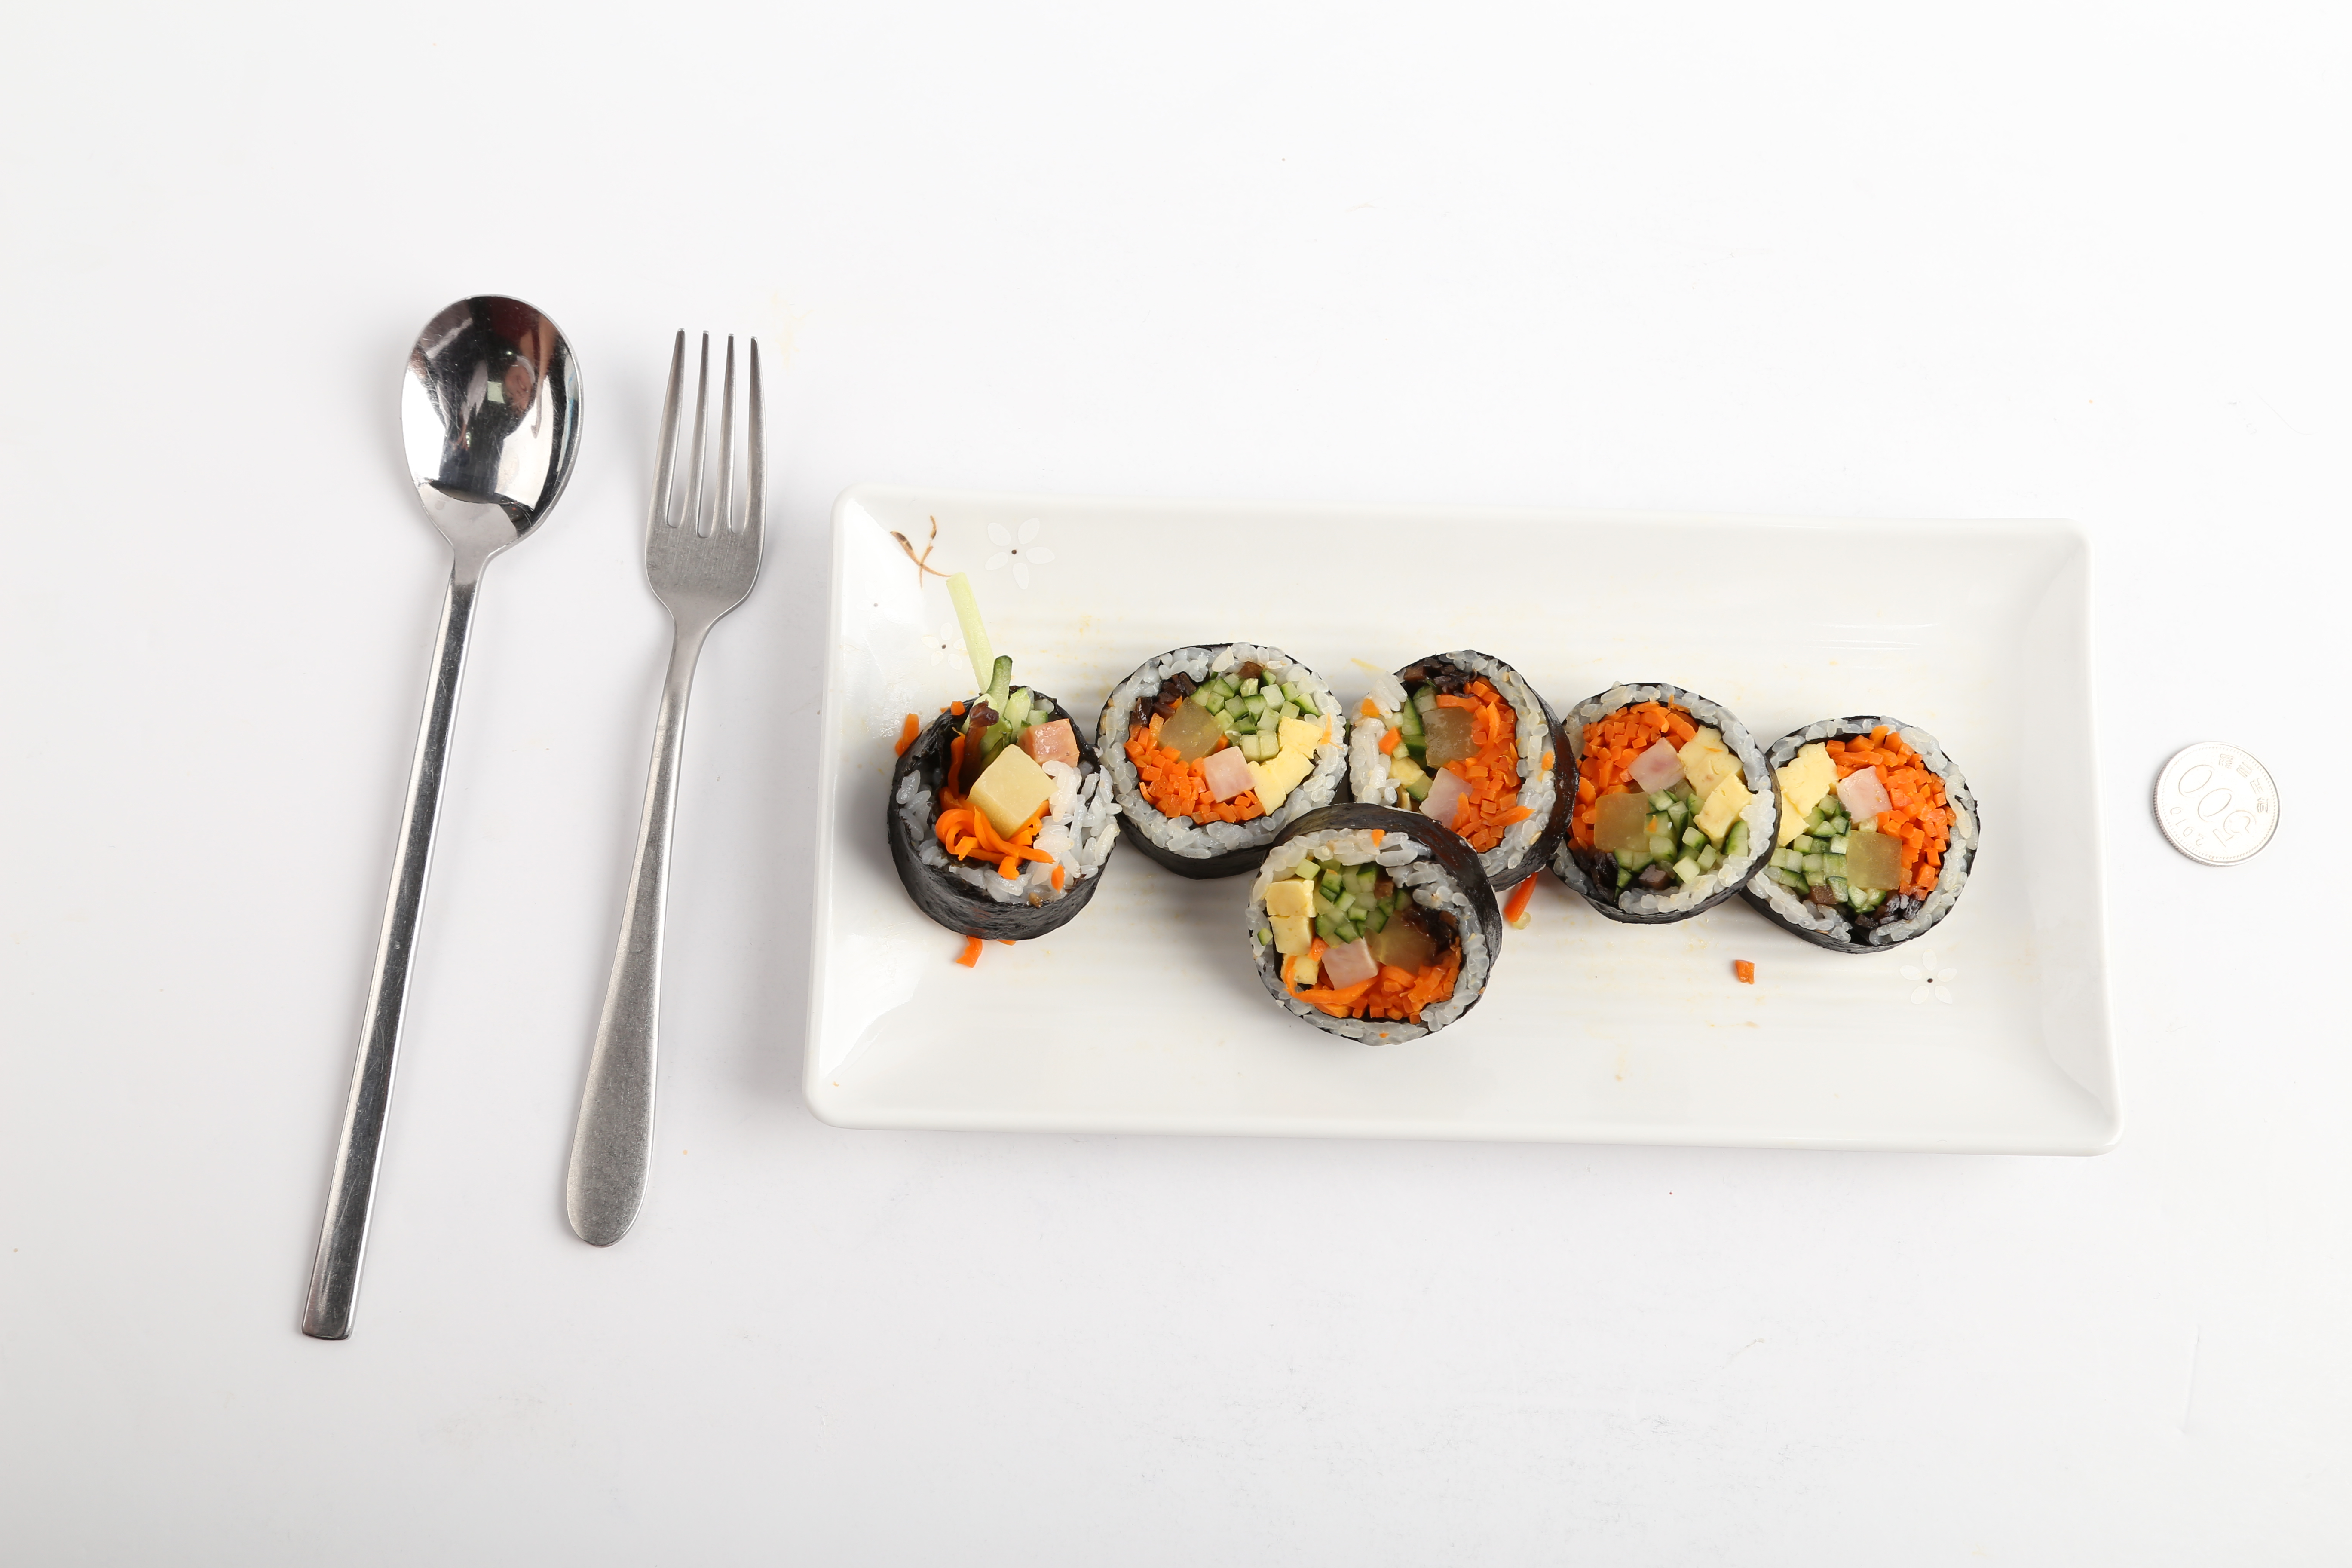dish: (812, 476, 2100, 1169)
ref_coin: (2147, 738, 2285, 870)
ref_fork: (642, 318, 772, 665)
ref_spoon: (397, 289, 581, 605)
김밥: (884, 639, 1981, 1050)
